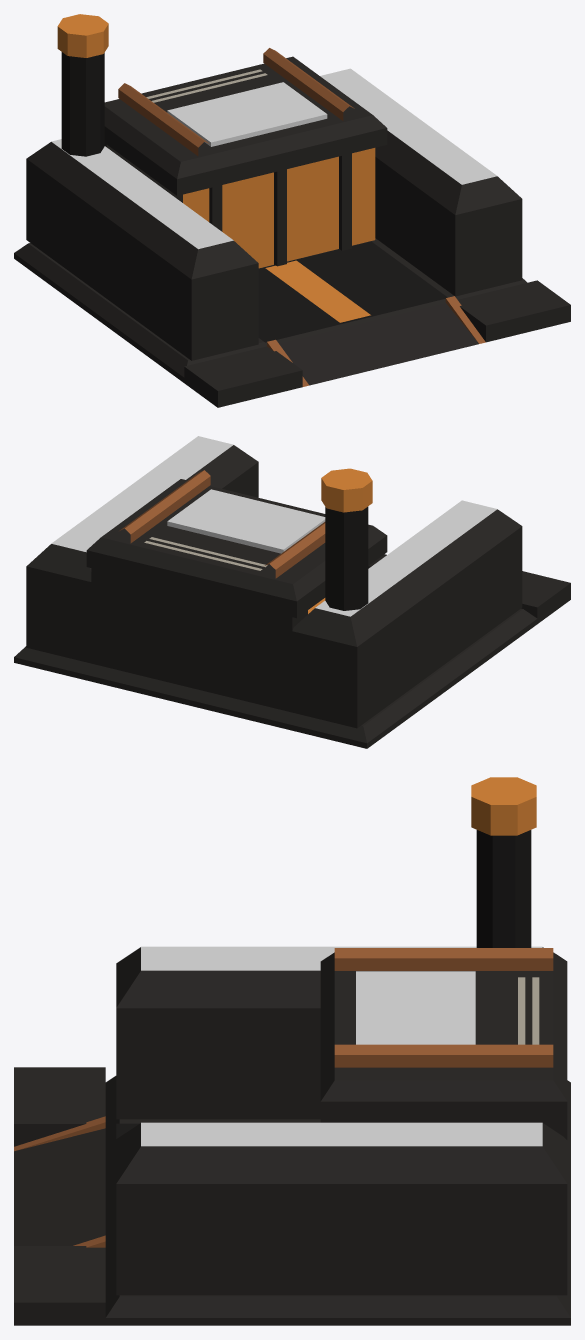
File: str_t2_fac_land.1f9321b2.raw.glb
3 views of the same model, one above another, from view 1: azimuth 30°, elevation 25°; view 2: azimuth 150°, elevation 25°; view 3: azimuth 270°, elevation 25° (orthographic). The views are drawn at different scales.
Parts seen in each view (by area): view 1: lod0; view 2: lod0; view 3: lod0.
Boxes of the visible parts, left/top/right/bottom form: lod0: left=14, top=14, right=570, bottom=407; lod0: left=14, top=436, right=570, bottom=748; lod0: left=14, top=777, right=570, bottom=1325.
Size of what is drawn, in the model's own units: 4.94 by 3.22 by 4.94.
